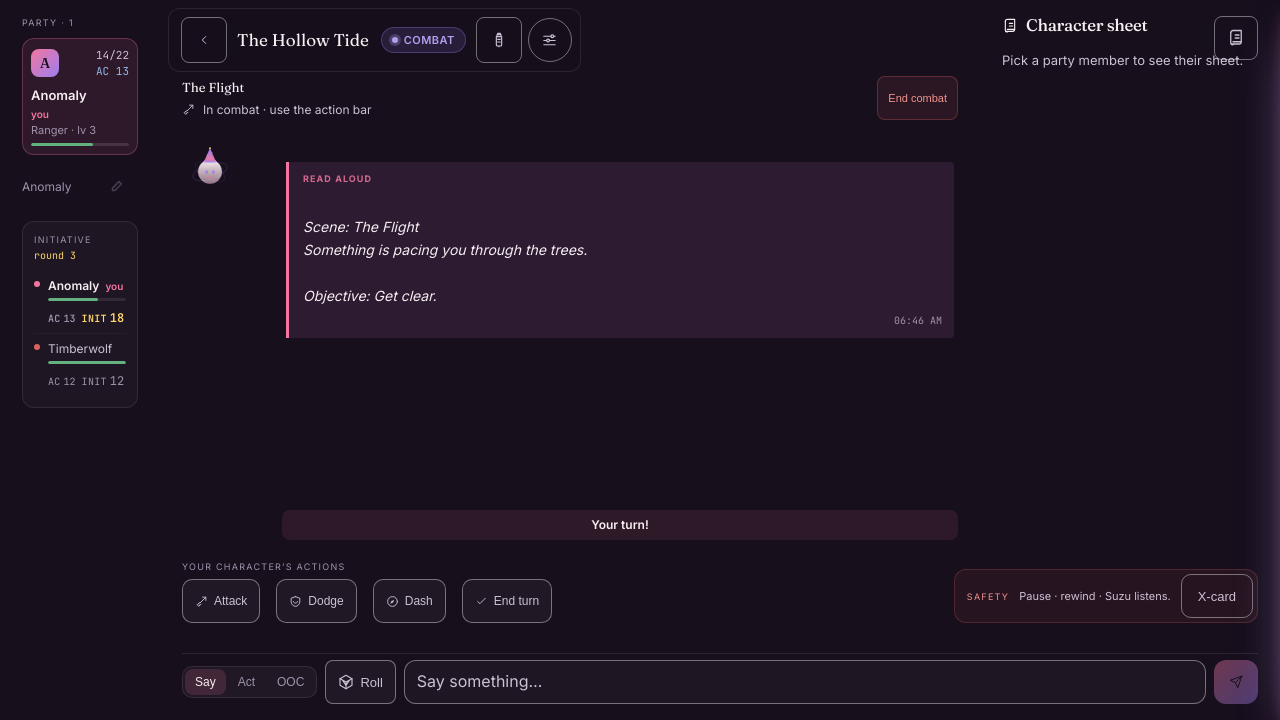
WF-O-OUTCOMELINE (T2) — outcome_line renders on a scene_advance; only arrival_line gates the generic beat › endturn: outcome_line stacks the same way as death-save
This screenshot has width=1280, height=720.
Expected: the text "The Hollow Tide" is shown, [237,27,369,53]
Click the button "End turn": coordinates (507, 601) [462,579,552,623]
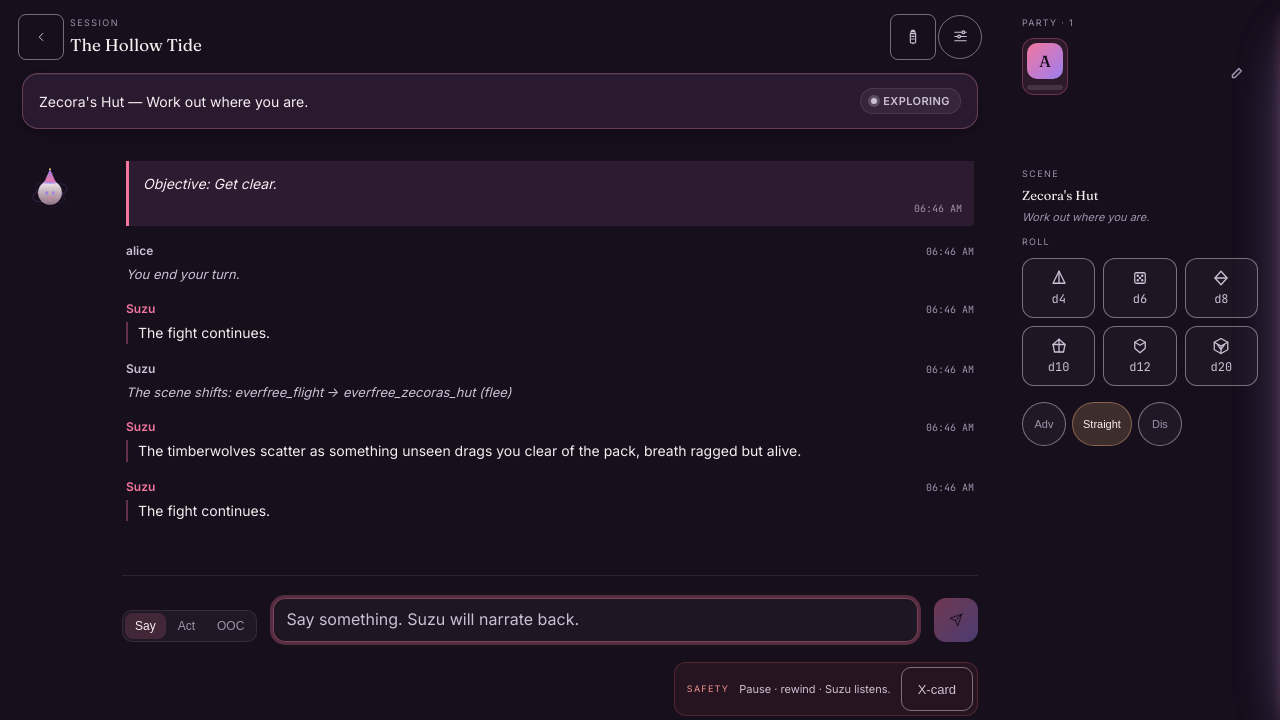
Expected: the text "The timberwolves scatter as something unseen drags you clear of the pack, breath ragged but alive." is shown, [138,442,801,459]
